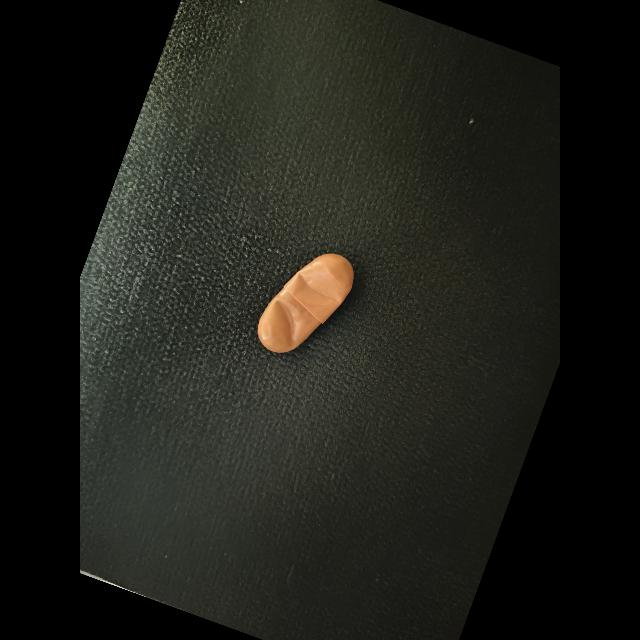Defective Capsule: (294, 260, 343, 306), (274, 298, 301, 348)
